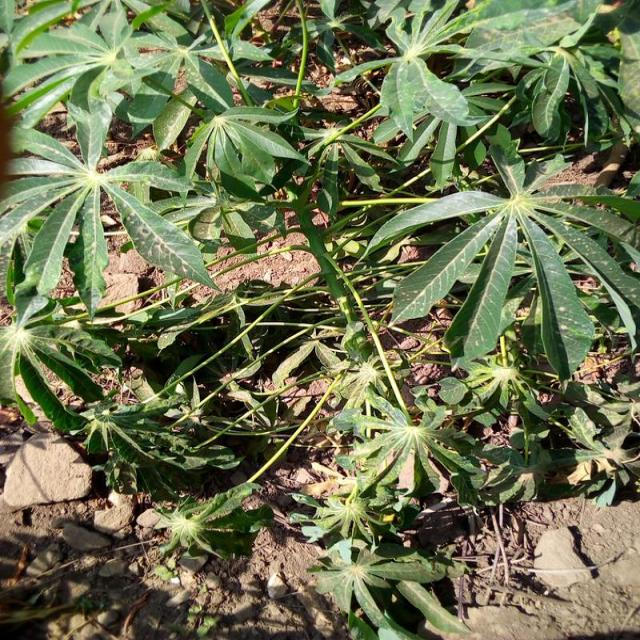Mosaico: (0, 152, 210, 288), (503, 176, 640, 359)
